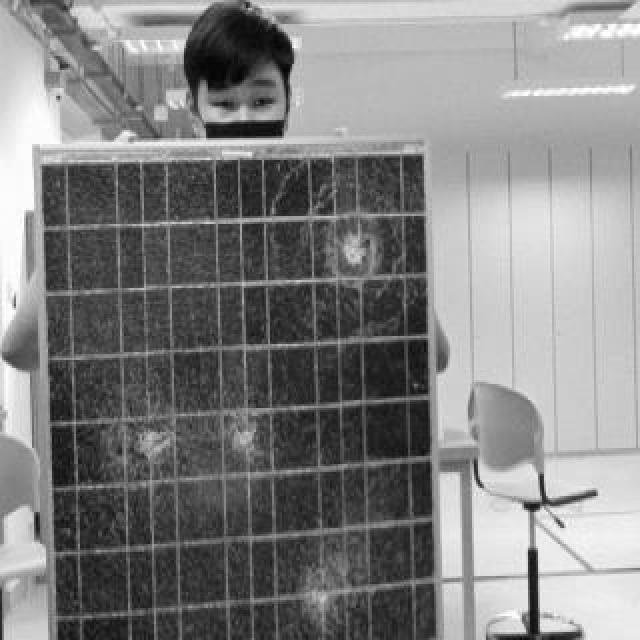Physical-damage: (40, 144, 460, 640)
